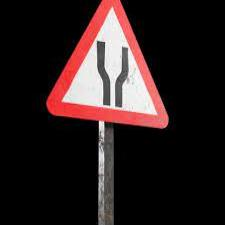Road widens: (67, 4, 163, 121)
